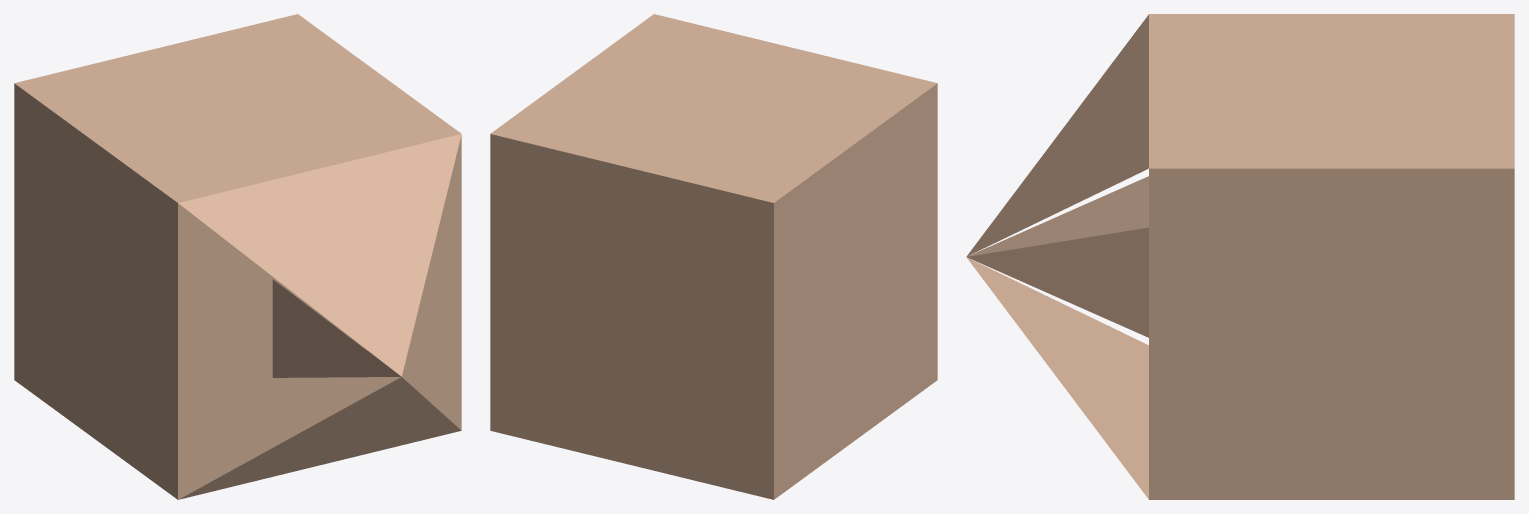
File: char_body.obj
3 views of the same model, side by side, from view 1: azimuth 30°, elevation 25°; view 2: azimuth 150°, elevation 25°; view 3: azimuth 270°, elevation 25° (orthographic). The views are drawn at different scales.
Parts seen in each view (by area): view 1: CharBody; view 2: CharBody; view 3: CharBody.
Boxes of the visible parts, x1,y1,x2,y2 form: CharBody: (14,14,461,499); CharBody: (490,14,937,499); CharBody: (966,14,1514,499).
Bounding box in the file's own units: 2 × 2 × 3.
